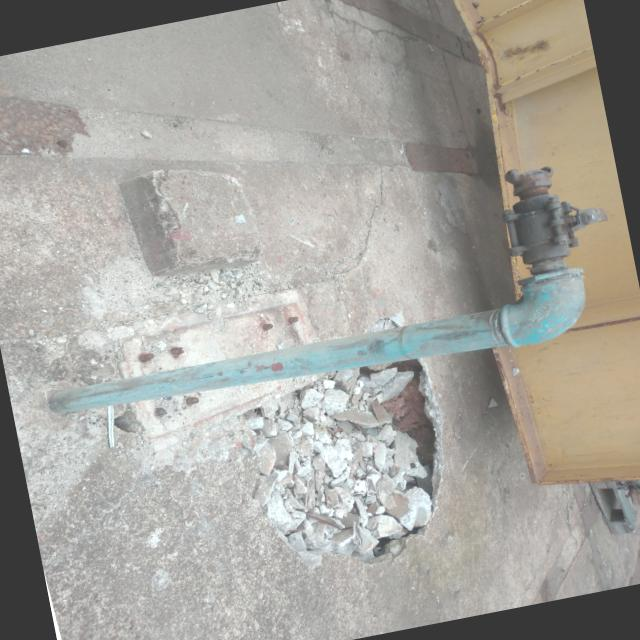gas: (48, 302, 510, 432)
